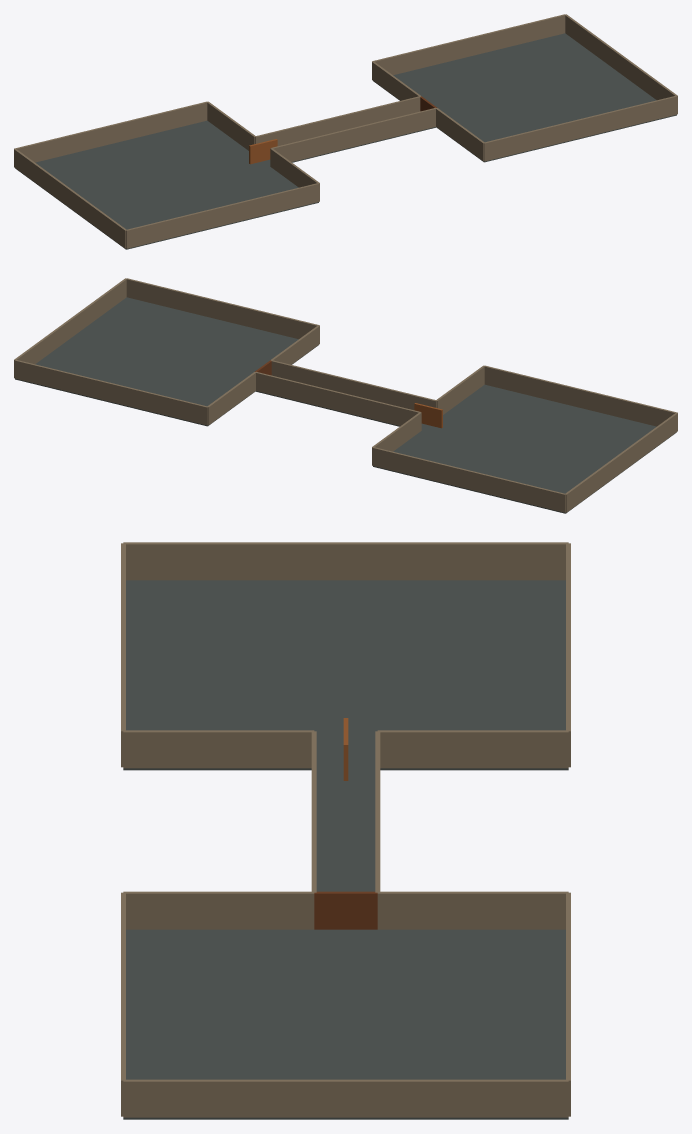
File: dungeon-minimum-00019919-160x160.glb
3 views of the same model, one above another, from view 1: azimuth 30°, elevation 25°; view 2: azimuth 150°, elevation 25°; view 3: azimuth 270°, elevation 25° (orthographic). The views are drawn at different scales.
Parts seen in each view (by area): view 1: module-room-exit-floor, module-room-entrance-floor, module-room-exit-south-wall, module-room-entrance-south-wall, module-room-entrance-north-wall, module-room-exit-north-wall, module-corridor-south-wall, module-corridor-north-wall, module-room-entrance-solid-wall, module-room-exit-solid-wall, module-room-exit-door-wall-b, module-room-entrance-door-wall-a (+3 smaller); view 2: module-room-exit-floor, module-room-entrance-floor, module-room-exit-north-wall, module-room-entrance-north-wall, module-room-entrance-south-wall, module-room-exit-south-wall, module-corridor-north-wall, module-corridor-south-wall, module-room-entrance-solid-wall, module-room-exit-solid-wall, module-room-exit-door-wall-a, module-room-entrance-door-wall-b (+3 smaller); view 3: module-room-entrance-floor, module-room-exit-floor, module-room-exit-solid-wall, module-room-entrance-solid-wall, module-corridor-floor, module-room-entrance-door-wall-a, module-room-entrance-door-wall-b, module-room-exit-door-wall-a, module-room-exit-door-wall-b, module-door-exit, module-room-exit-north-wall, module-room-exit-south-wall (+4 smaller).
Boxes of the visible parts, x1,y1,x2,y2 form: module-room-exit-floor: (373, 33, 676, 162); module-room-entrance-floor: (15, 120, 318, 249); module-room-exit-south-wall: (484, 95, 677, 161); module-room-entrance-south-wall: (126, 183, 319, 248); module-room-entrance-north-wall: (14, 101, 207, 162); module-room-exit-north-wall: (372, 14, 565, 75); module-corridor-south-wall: (270, 107, 436, 161); module-corridor-north-wall: (255, 96, 420, 145); module-room-entrance-solid-wall: (14, 149, 126, 248); module-room-exit-solid-wall: (565, 14, 677, 113); module-room-exit-door-wall-b: (436, 108, 484, 161); module-room-entrance-door-wall-a: (207, 101, 255, 150); module-room-exit-floor: (15, 297, 318, 426); module-room-entrance-floor: (373, 384, 676, 513); module-room-exit-north-wall: (14, 359, 207, 425); module-room-entrance-north-wall: (372, 447, 565, 512); module-room-entrance-south-wall: (484, 365, 677, 426); module-room-exit-south-wall: (126, 278, 319, 339); module-corridor-north-wall: (255, 371, 421, 425); module-corridor-south-wall: (271, 360, 436, 409); module-room-entrance-solid-wall: (565, 413, 677, 512); module-room-exit-solid-wall: (14, 278, 126, 377); module-room-exit-door-wall-a: (207, 372, 255, 425); module-room-entrance-door-wall-b: (436, 365, 484, 414); module-room-entrance-floor: (123, 580, 568, 770); module-room-exit-floor: (123, 929, 568, 1119); module-room-exit-solid-wall: (123, 1079, 568, 1117); module-room-entrance-solid-wall: (123, 542, 568, 580); module-corridor-floor: (316, 767, 375, 891); module-room-entrance-door-wall-a: (377, 730, 568, 768); module-room-entrance-door-wall-b: (123, 730, 314, 768); module-room-exit-door-wall-a: (377, 891, 568, 929); module-room-exit-door-wall-b: (123, 891, 314, 929); module-door-exit: (314, 891, 377, 929); module-room-exit-north-wall: (566, 892, 570, 1116); module-room-exit-south-wall: (121, 892, 125, 1116).
Bounding box in the file's own units: 80.3 × 2.7 × 28.3.
